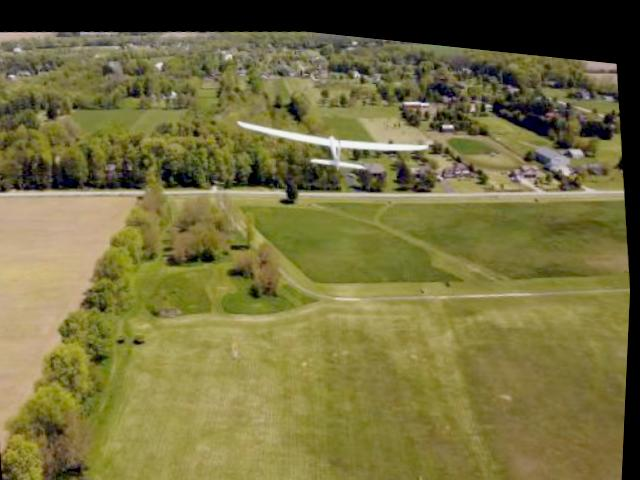uav: (228, 79, 444, 190)
